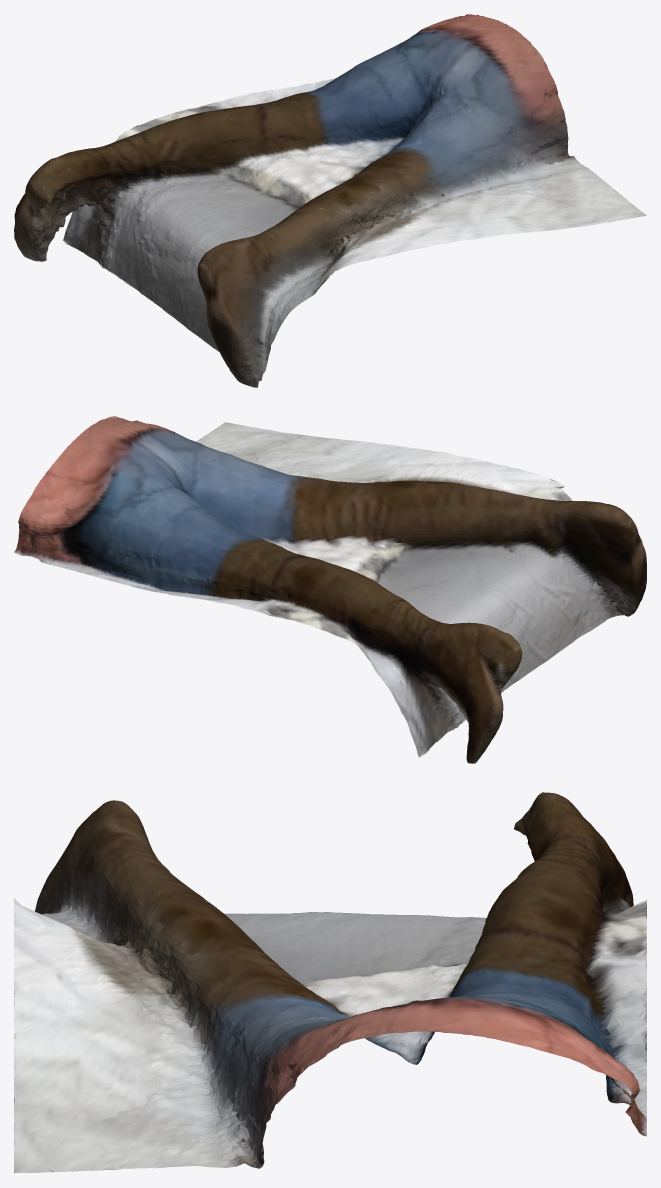
3 views of the same model, one above another, from view 1: azimuth 30°, elevation 25°; view 2: azimuth 150°, elevation 25°; view 3: azimuth 270°, elevation 25° (orthographic). The views are drawn at different scales.
Bounding box in the file's own units: 0.9523 × 0.3386 × 0.7354.
Materials: 1 (1 with a texture image).
